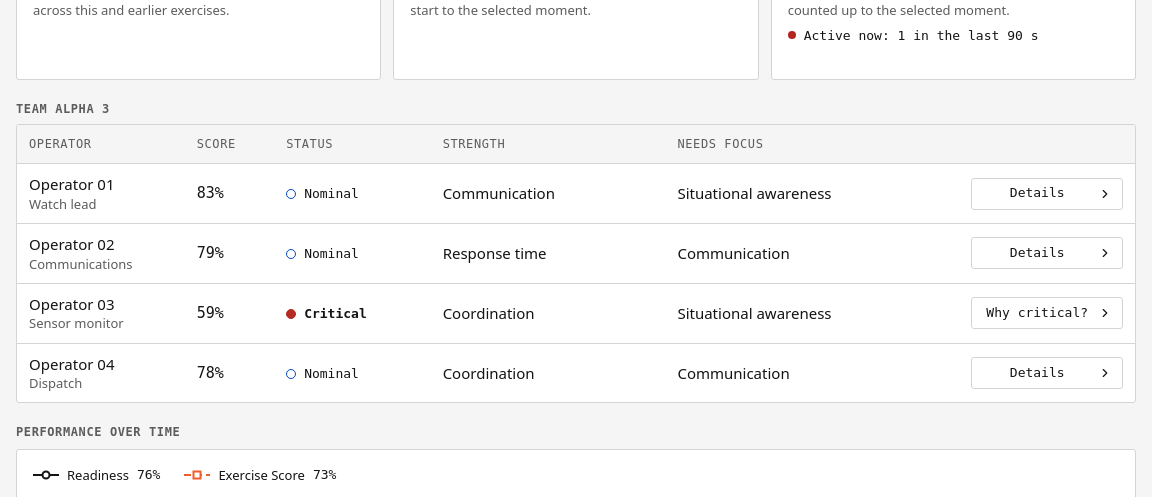
Test: copy link › copies a link to the current moment and operator, and says so in the button
(page scrolled)
Click the button named "Why critical? Operator 03": (1047, 313) [971, 297, 1123, 329]
(page scrolled)
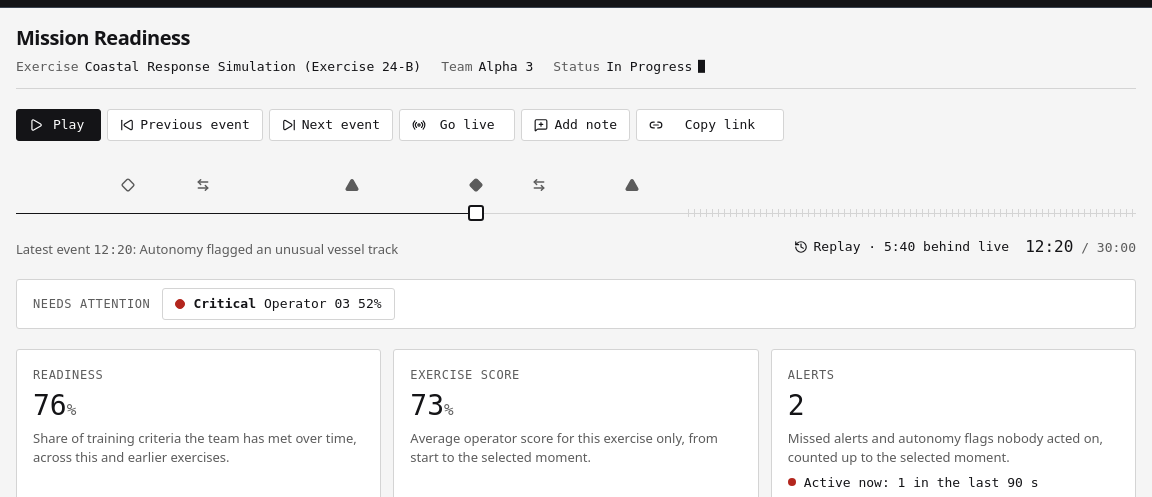
Click the button "Copy link": (710, 125) [636, 109, 784, 141]
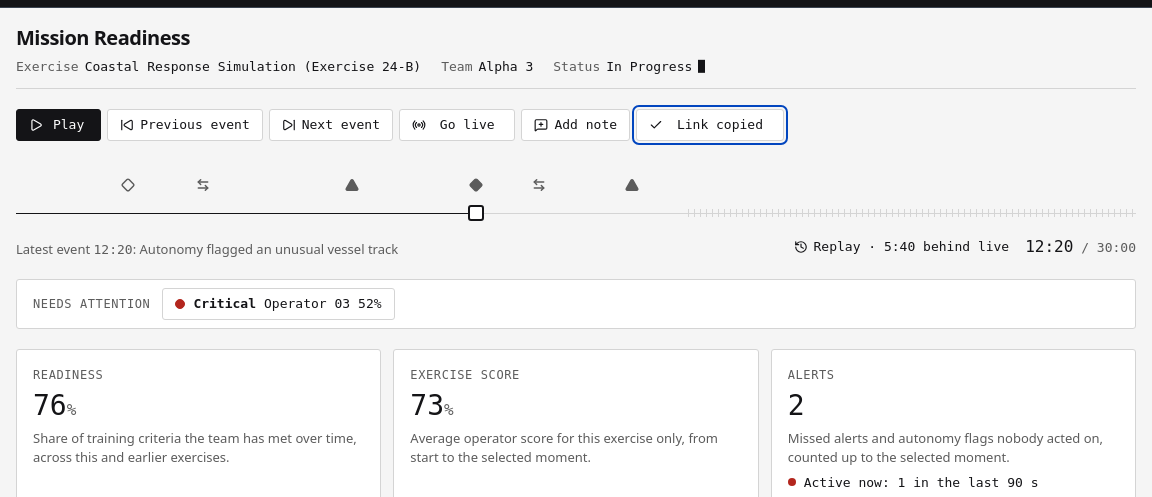
Expected: the button "Link copied" is shown, [636, 109, 784, 141]
